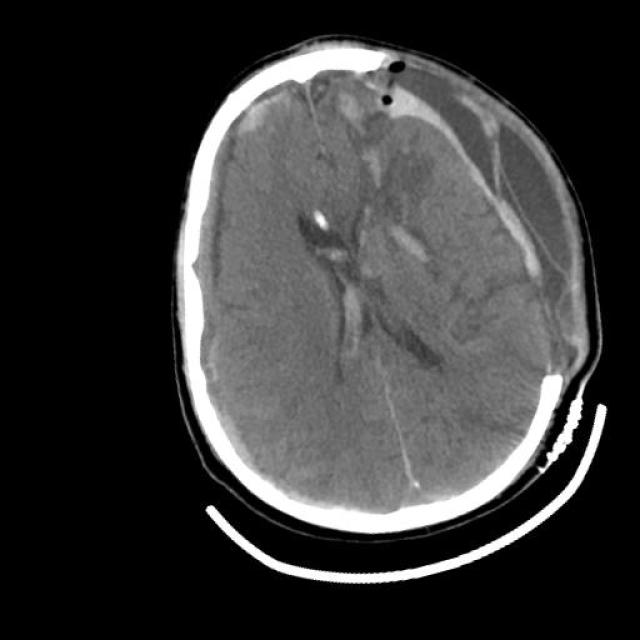Intraparenchymal: (363, 190, 457, 290), (217, 77, 298, 161)
Intraventricular: (282, 224, 401, 400)
Subdural: (174, 378, 284, 490)
